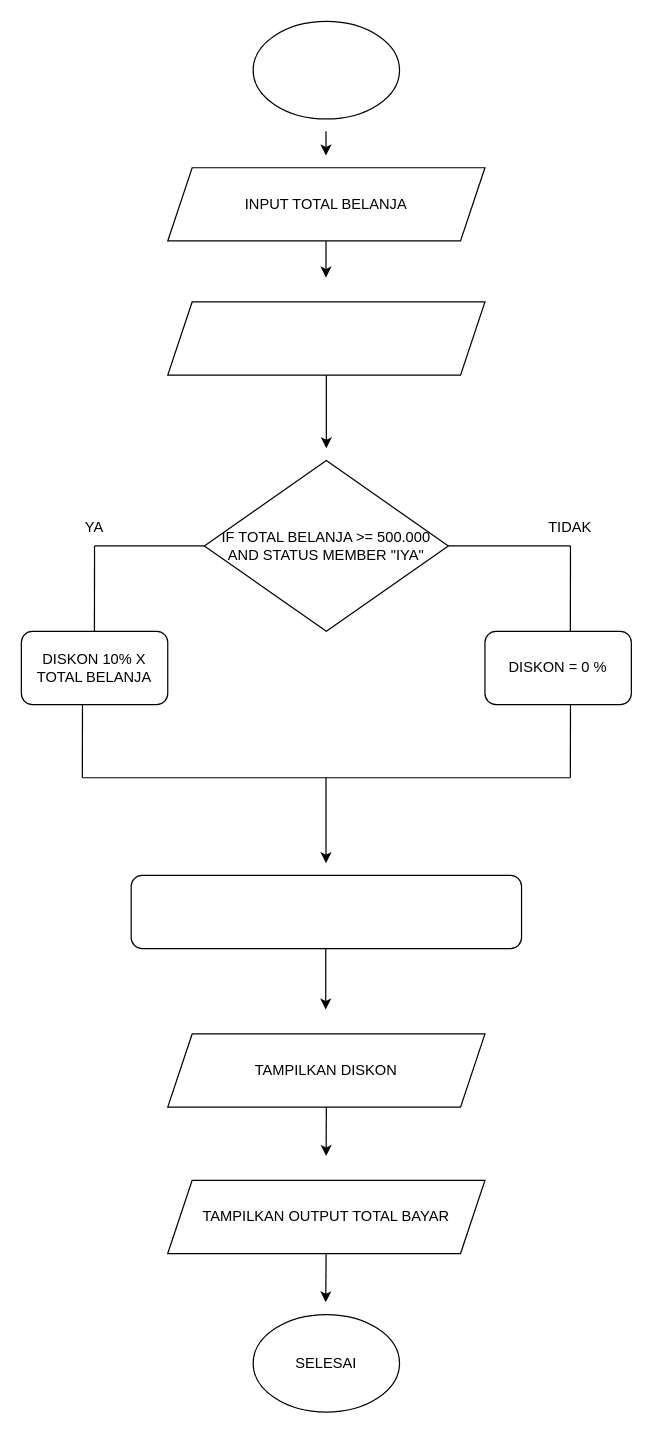
This 653x1434 diagram has some shape labels left out. The shapes that lost their labels are listed below. From the top down, each one's centre as x and y in pixels, then its label:
point (326, 69): MULAI
point (326, 338): STATUS MEMBER
point (326, 911): TOTAL BAYAR = TOTAL BELANJA - DISKON
